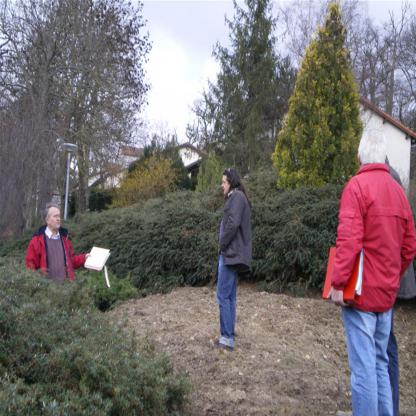face: (50, 208, 61, 230), (222, 176, 232, 195)
